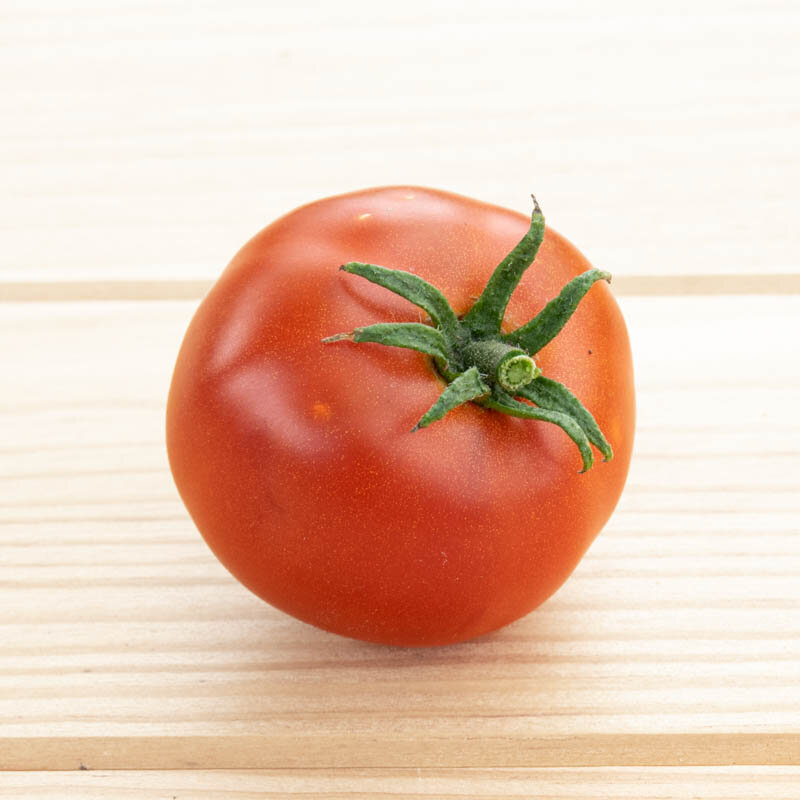tomato: (169, 177, 683, 648)
